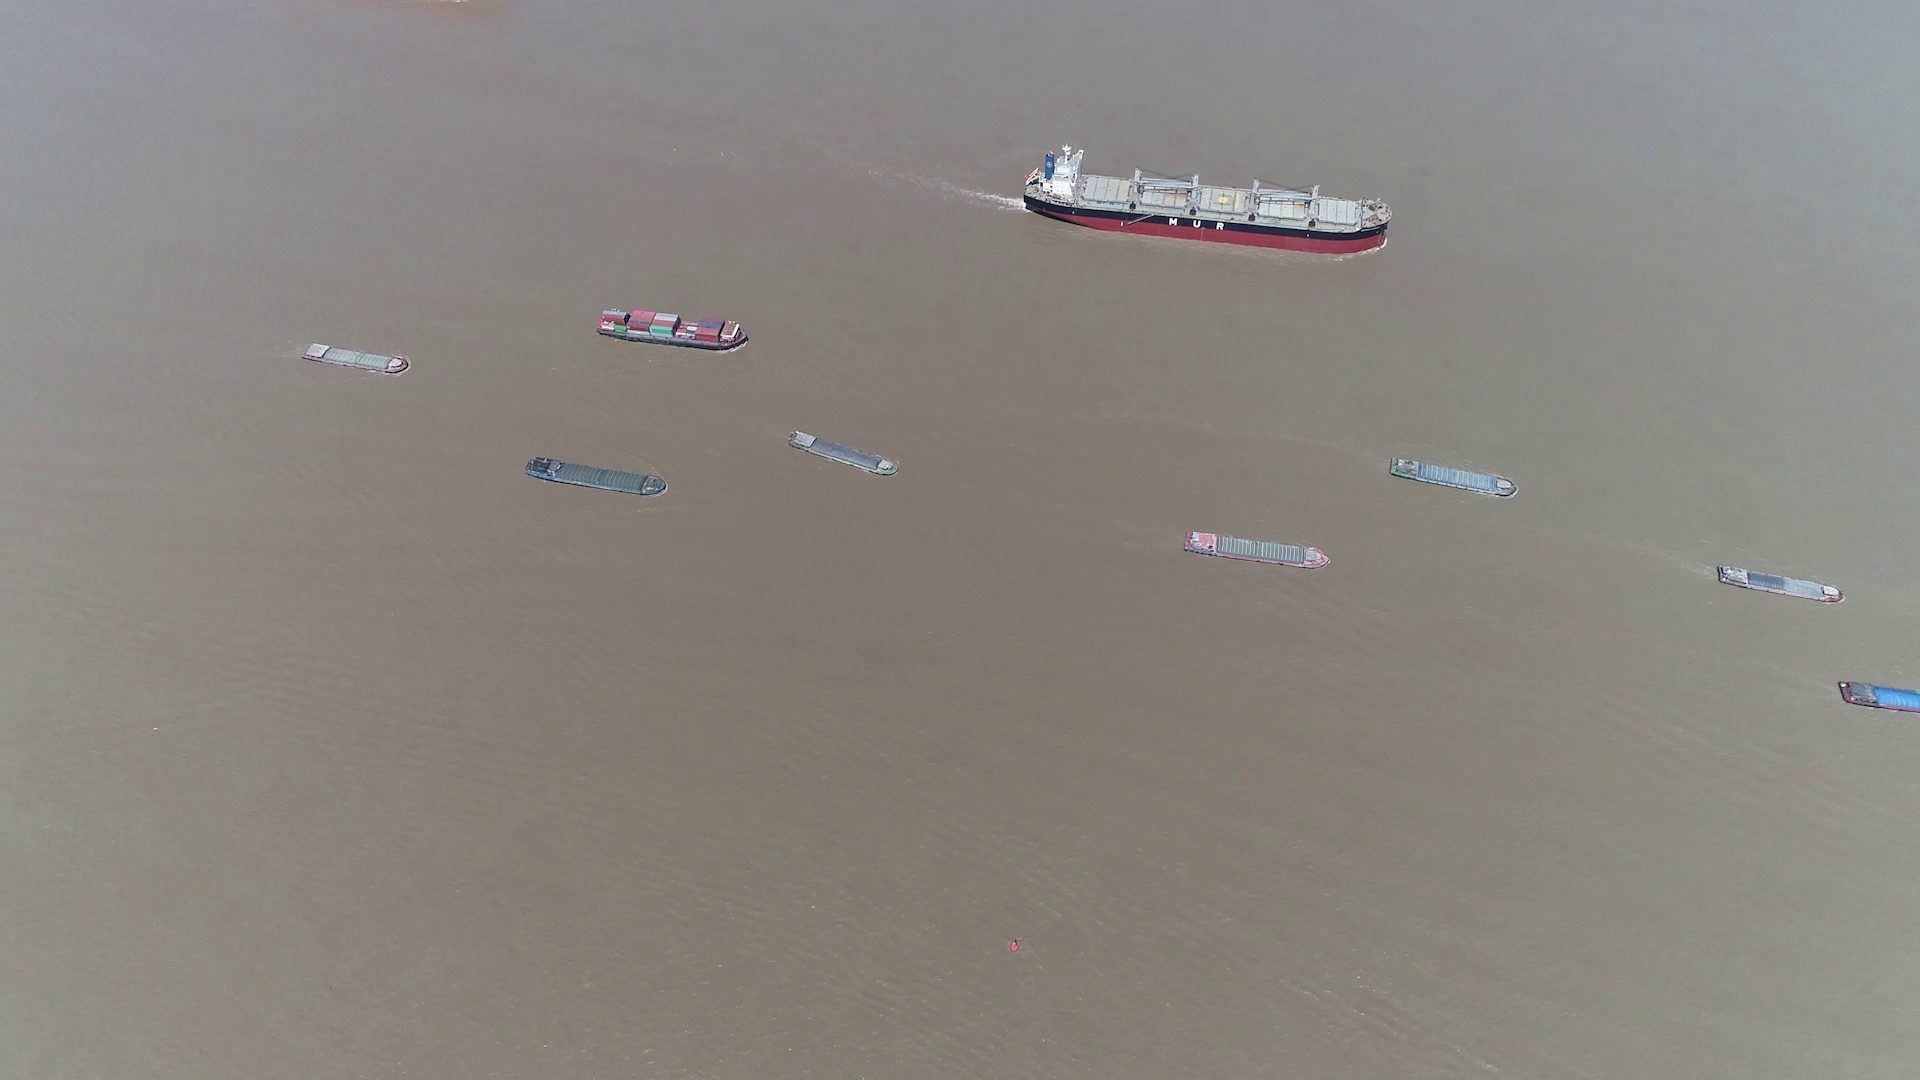ship: (1025, 150, 1393, 251), (595, 309, 750, 349), (527, 458, 670, 498), (1185, 530, 1329, 568), (790, 431, 901, 479), (1389, 458, 1516, 498), (1716, 564, 1844, 604), (301, 342, 410, 375), (1838, 679, 1919, 716)
